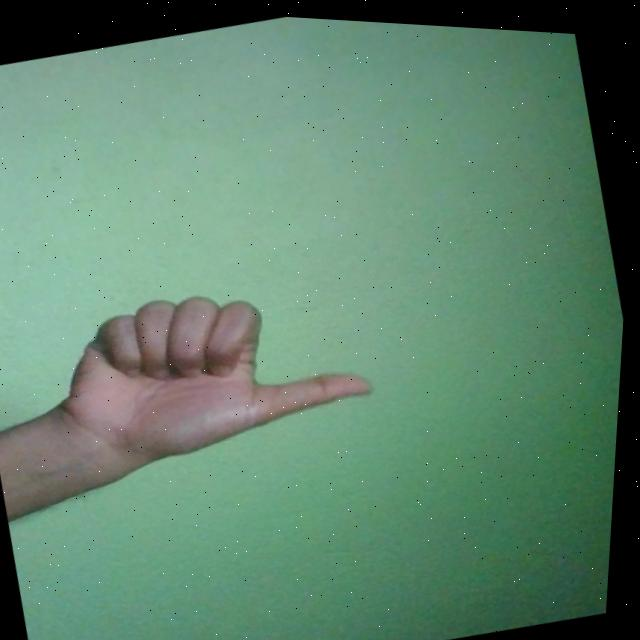Good Job: (35, 246, 393, 490)
